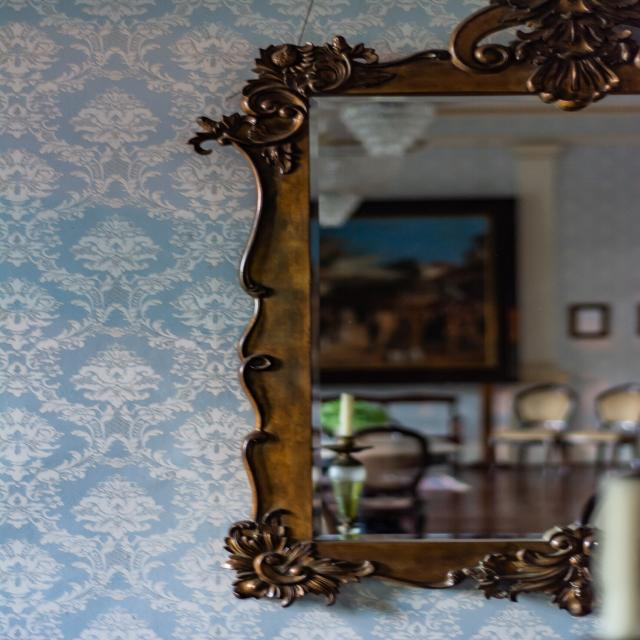Glass: (297, 92, 640, 547)
